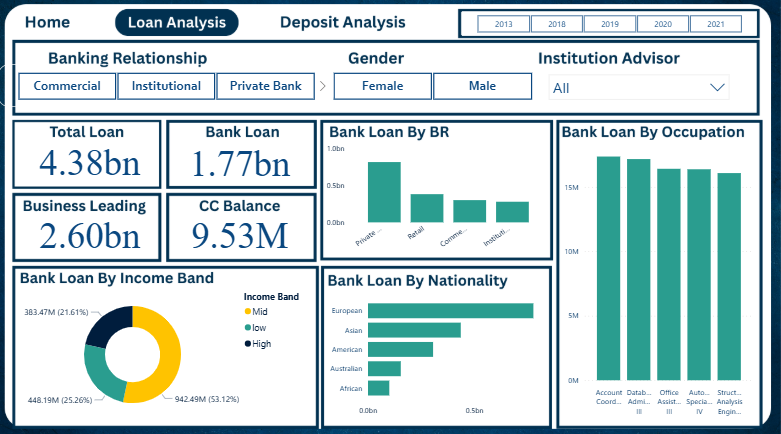

This screenshot's page, from the dashboard's own definition file:
{"tool":"powerbi","page":{"name":"Loan Analysis","canvas":[1280,720],"ordinal":1},"visuals":[{"type":"slicer","fields":{"Values":["banking-clients.Year of joining"]},"box":[757.8,22.8,481.3,40.3],"z":0},{"type":"slicer","fields":{"Values":["gender.Gender"]},"box":[515,110,388.3,70],"z":1},{"type":"card","fields":{"Values":["banking-clients.Total Loan"]},"box":[61.3,232.8,176.8,64.8],"z":2},{"type":"card","fields":{"Values":["Sum(banking-clients.Bank Loans)"]},"box":[306.3,227.5,176.8,77],"z":3},{"type":"card","fields":{"Values":["Sum(banking-clients.Business Lending)"]},"box":[61.3,344.8,176.8,77],"z":4},{"type":"card","fields":{"Values":["Sum(banking-clients.Credit Card Balance)"]},"box":[306.3,344.8,176.8,77],"z":5},{"type":"donutChart","fields":{"Category":["banking-clients.Income Band"],"Y":["Sum(banking-clients.Bank Loans)"]},"box":[33.3,474.3,481.3,218.8],"z":6},{"type":"clusteredColumnChart","fields":{"Category":["banking-clients.BRId"],"Y":["Sum(banking-clients.Bank Loans)"]},"box":[532,232.8,371,189],"z":7},{"type":"barChart","fields":{"Category":["banking-clients.Nationality"],"Y":["Sum(banking-clients.Bank Loans)"]},"box":[532,474.3,371,218.8],"z":8},{"type":"clusteredColumnChart","fields":{"Category":["banking-clients.Occupation"],"Y":["Sum(banking-clients.Bank Loans)"]},"box":[920,233.3,320,460],"z":9},{"type":"slicer","fields":{"Values":["banking-clients.BRId"]},"box":[0,110,548.3,70],"z":10},{"type":"slicer","fields":{"Values":["banking-clients.IAId"]},"box":[883.3,110,328.3,70],"z":11},{"type":"actionButton","box":[455,15,216.7,40],"z":12},{"type":"actionButton","box":[33.3,15,108.3,56.7],"z":13}]}

Visuals, with their boxes in screenshot pixels (x1, y1, x2, y2), scaled from the page's 1280x720 canvas onto the 781x434 screenshot:
slicer - banking-clients.Year of joining: bbox(462, 14, 756, 38)
slicer - gender.Gender: bbox(314, 66, 551, 108)
card - banking-clients.Total Loan: bbox(37, 140, 145, 179)
card - Sum(banking-clients.Bank Loans): bbox(187, 137, 295, 184)
card - Sum(banking-clients.Business Lending): bbox(37, 208, 145, 254)
card - Sum(banking-clients.Credit Card Balance): bbox(187, 208, 295, 254)
donutChart - banking-clients.Income Band x Sum(banking-clients.Bank Loans): bbox(20, 286, 314, 418)
clusteredColumnChart - banking-clients.BRId x Sum(banking-clients.Bank Loans): bbox(325, 140, 551, 254)
barChart - banking-clients.Nationality x Sum(banking-clients.Bank Loans): bbox(325, 286, 551, 418)
clusteredColumnChart - banking-clients.Occupation x Sum(banking-clients.Bank Loans): bbox(561, 141, 757, 418)
slicer - banking-clients.BRId: bbox(0, 66, 335, 108)
slicer - banking-clients.IAId: bbox(539, 66, 739, 108)
actionButton: bbox(278, 9, 410, 33)
actionButton: bbox(20, 9, 86, 43)
